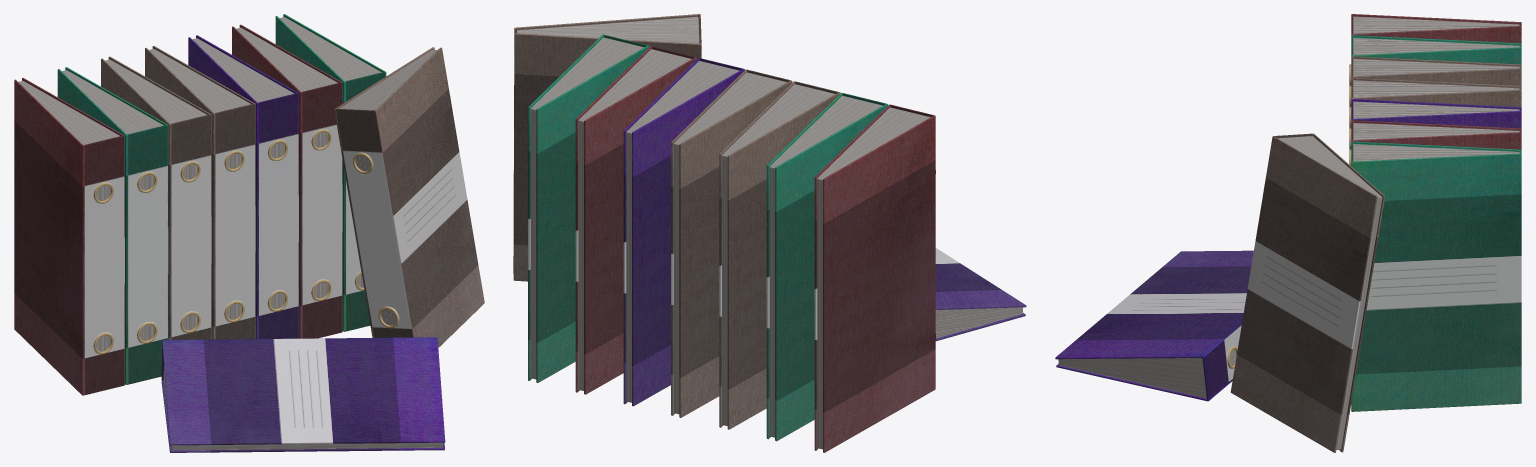
Rendered from Files.fbx.
3 views of the same model, side by side, from view 1: azimuth 30°, elevation 25°; view 2: azimuth 150°, elevation 25°; view 3: azimuth 270°, elevation 25° (orthographic). The views are drawn at different scales.
Visible parts, largest first — view 1: pCube1, pCube12, pCube3, pCube4, pCube10, pCube9, pCube11, pCube2, pCube13; view 2: pCube3, pCube11, pCube10, pCube4, pCube13, pCube9, pCube2, pCube12, pCube1; view 3: pCube13, pCube12, pCube1, pCube2, pCube3, pCube9, pCube11, pCube4, pCube10.
Boxes of the visible parts, x1,y1,x2,y2 form: pCube1: (161, 337, 445, 452); pCube12: (334, 47, 484, 347); pCube3: (14, 78, 124, 395); pCube4: (57, 67, 168, 384); pCube10: (232, 24, 342, 338); pCube9: (188, 35, 299, 338); pCube11: (145, 46, 255, 339); pCube2: (101, 56, 211, 339); pCube13: (275, 14, 386, 331); pCube3: (814, 104, 935, 452); pCube11: (671, 69, 792, 417); pCube10: (575, 46, 696, 394); pCube4: (766, 93, 887, 441); pCube13: (528, 34, 649, 382); pCube9: (623, 58, 744, 406); pCube2: (719, 81, 840, 429); pCube12: (513, 14, 701, 281); pCube1: (935, 248, 1026, 341); pCube13: (1351, 141, 1521, 411); pCube12: (1230, 133, 1385, 452); pCube1: (1055, 250, 1253, 401); pCube2: (1349, 56, 1521, 128); pCube3: (1349, 14, 1521, 85); pCube9: (1349, 99, 1521, 165); pCube11: (1349, 78, 1521, 149); pCube4: (1349, 35, 1521, 106); pCube10: (1351, 120, 1521, 149).
Bounding box in the file's own units: 42.49 × 26.15 × 43.58.
Materials: 4 (4 with a texture image).
